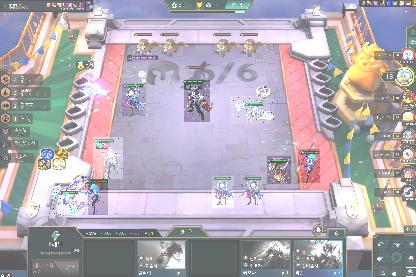1_vladimir: (212, 176, 234, 208), (241, 176, 263, 208)
2_lux: (93, 137, 123, 179)
2_nidalee: (298, 149, 320, 183), (88, 179, 108, 215)
2_skarner: (230, 96, 274, 124), (52, 183, 84, 215)
2_sylas: (184, 80, 210, 122)
2_twitch: (267, 156, 291, 184)
2_vladimir: (122, 84, 146, 116)
